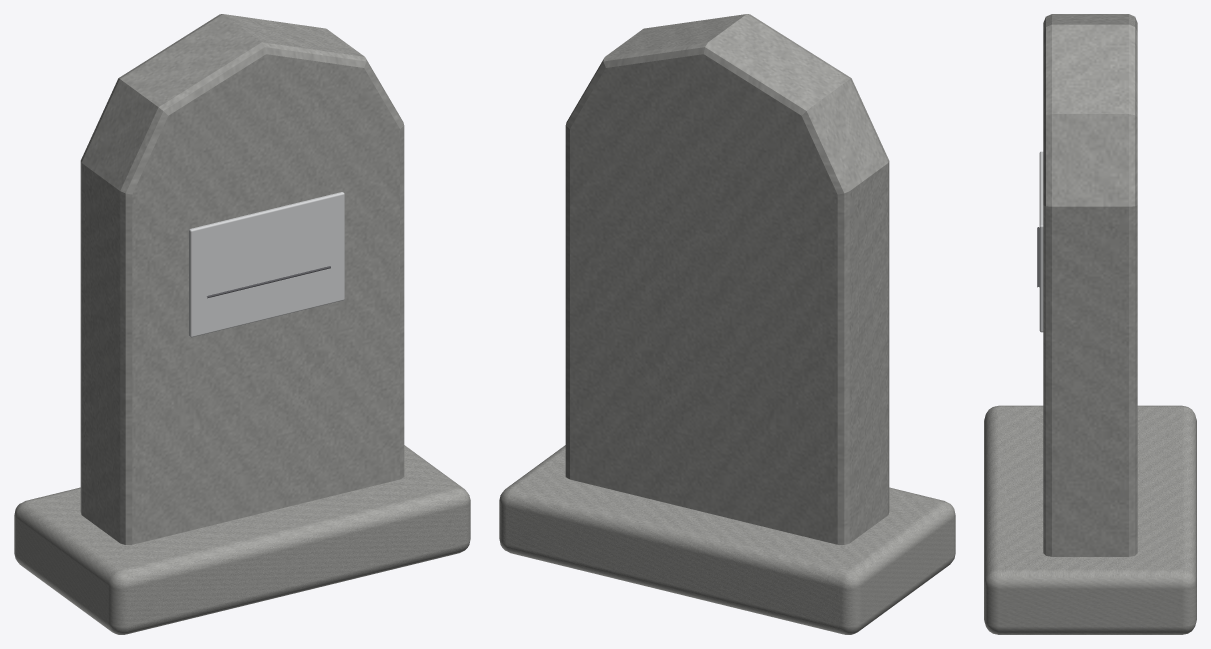
Rendered from paranormal-investigation-house-grave-marker-0241d778__26892.glb.
3 views of the same model, side by side, from view 1: azimuth 30°, elevation 25°; view 2: azimuth 150°, elevation 25°; view 3: azimuth 270°, elevation 25° (orthographic).
Visible parts, largest first — view 1: grave-marker; view 2: grave-marker; view 3: grave-marker.
Part boxes in pixels (left/top/right/bottom): grave-marker: left=14, top=14, right=470, bottom=634; grave-marker: left=499, top=14, right=955, bottom=634; grave-marker: left=984, top=14, right=1196, bottom=634.
Size of the model in its own units: 0.7 by 0.986 by 0.36.
Materials: 3 (1 with a texture image).
